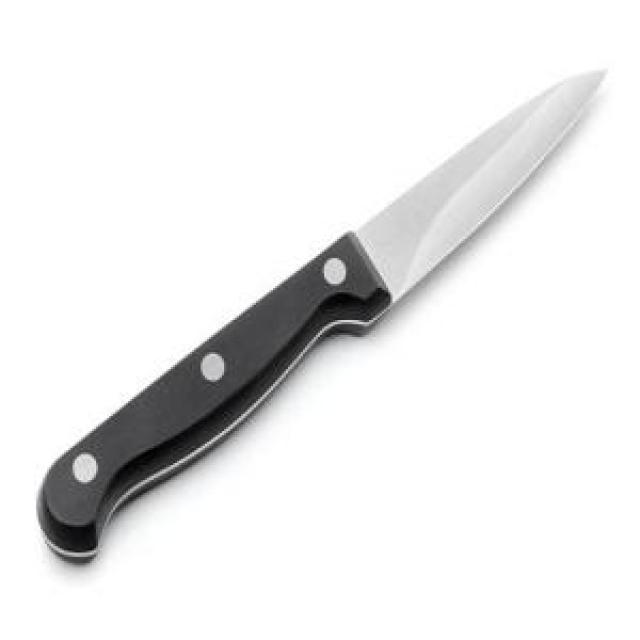knife: (38, 66, 612, 567)
